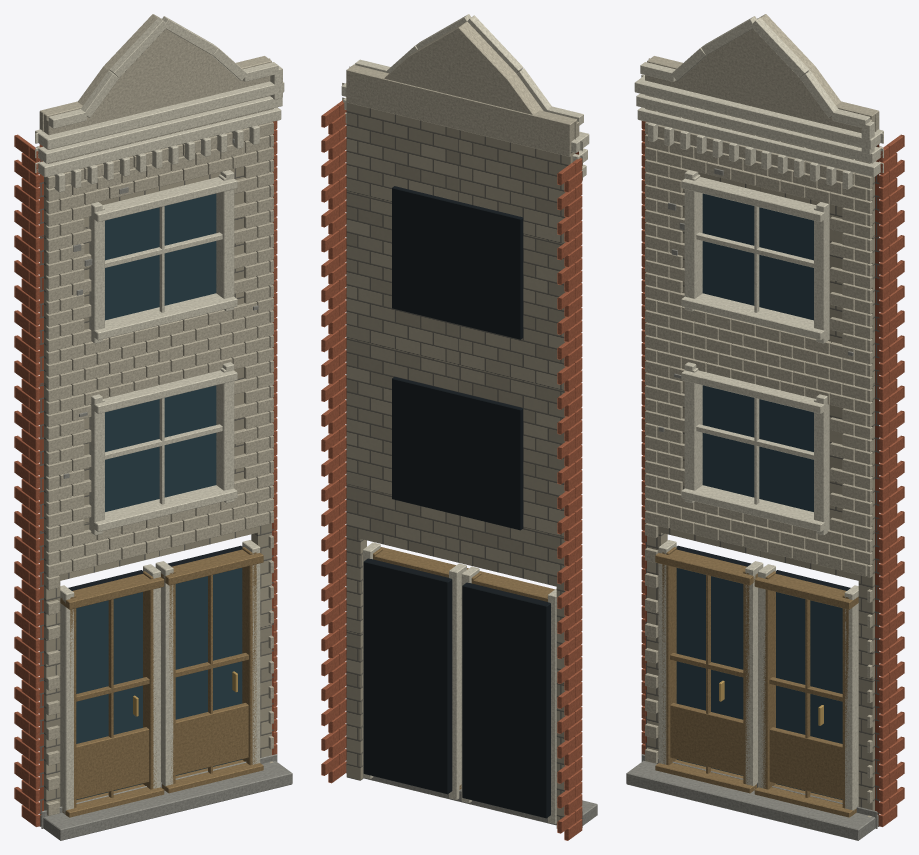
File: RUNDWN11_lod0.glb
3 views of the same model, side by side, from view 1: azimuth 30°, elevation 25°; view 2: azimuth 150°, elevation 25°; view 3: azimuth 330°, elevation 25° (orthographic).
Visible parts, largest first — view 1: RUNDWN11_FRONT_LOD0; view 2: RUNDWN11_FRONT_LOD0; view 3: RUNDWN11_FRONT_LOD0.
Part boxes in pixels (box(x1,y1,x2,y2)): RUNDWN11_FRONT_LOD0: box(14, 14, 292, 840); RUNDWN11_FRONT_LOD0: box(321, 14, 597, 840); RUNDWN11_FRONT_LOD0: box(626, 14, 904, 840).
Bounding box in the file's own units: 3.44 × 10.64 × 1.02.
15 materials, 12 textured.
